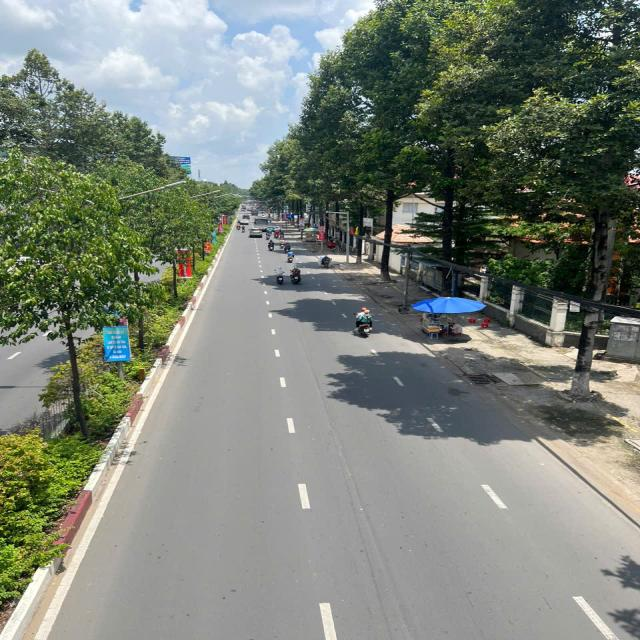car: (246, 224, 265, 240)
motobyte: (350, 303, 378, 338), (270, 265, 287, 290), (290, 264, 304, 289), (284, 249, 296, 265), (266, 238, 276, 252)
